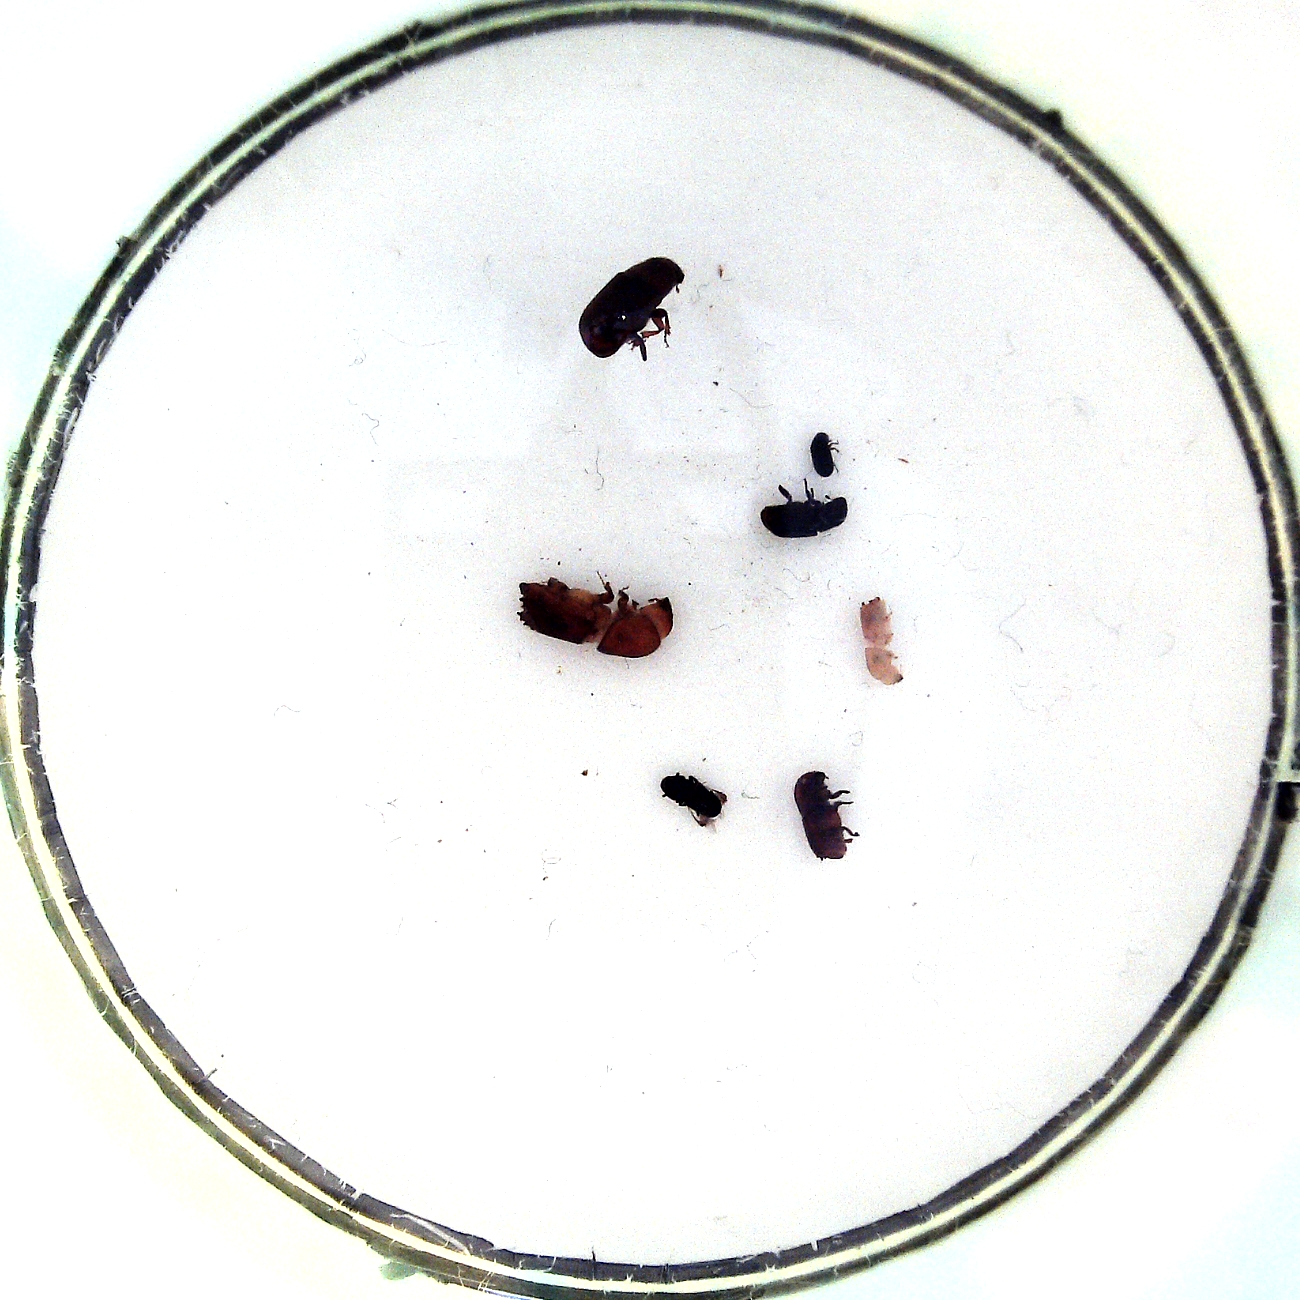Boerner: (510, 574, 679, 665)
Leconte: (571, 251, 689, 364)
Linnaeus: (789, 765, 861, 869)
acuminatus: (854, 587, 910, 692)
armandi: (754, 474, 856, 542)
coleoptera: (655, 764, 733, 829), (804, 425, 846, 479)
